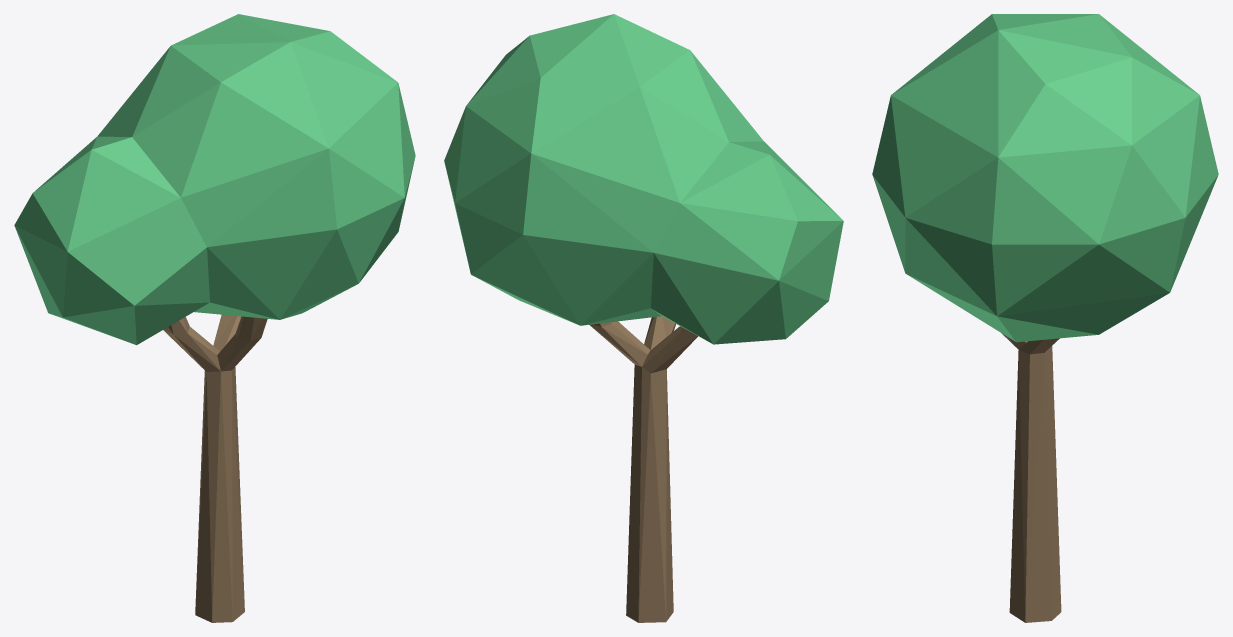
The model's file is tree7.fbx.
3 renders of one model, left to right at view 1: azimuth 30°, elevation 25°; view 2: azimuth 150°, elevation 25°; view 3: azimuth 270°, elevation 25°, orthographic. The views are drawn at different scales.
Visible parts, largest first — view 1: treetype7; view 2: treetype7; view 3: treetype7.
Boxes of the visible parts, x1,y1,x2,y2 form: treetype7: (14, 14, 415, 622); treetype7: (444, 14, 843, 622); treetype7: (872, 14, 1218, 622).
Size of the model in its own units: 130 by 204 by 105.
